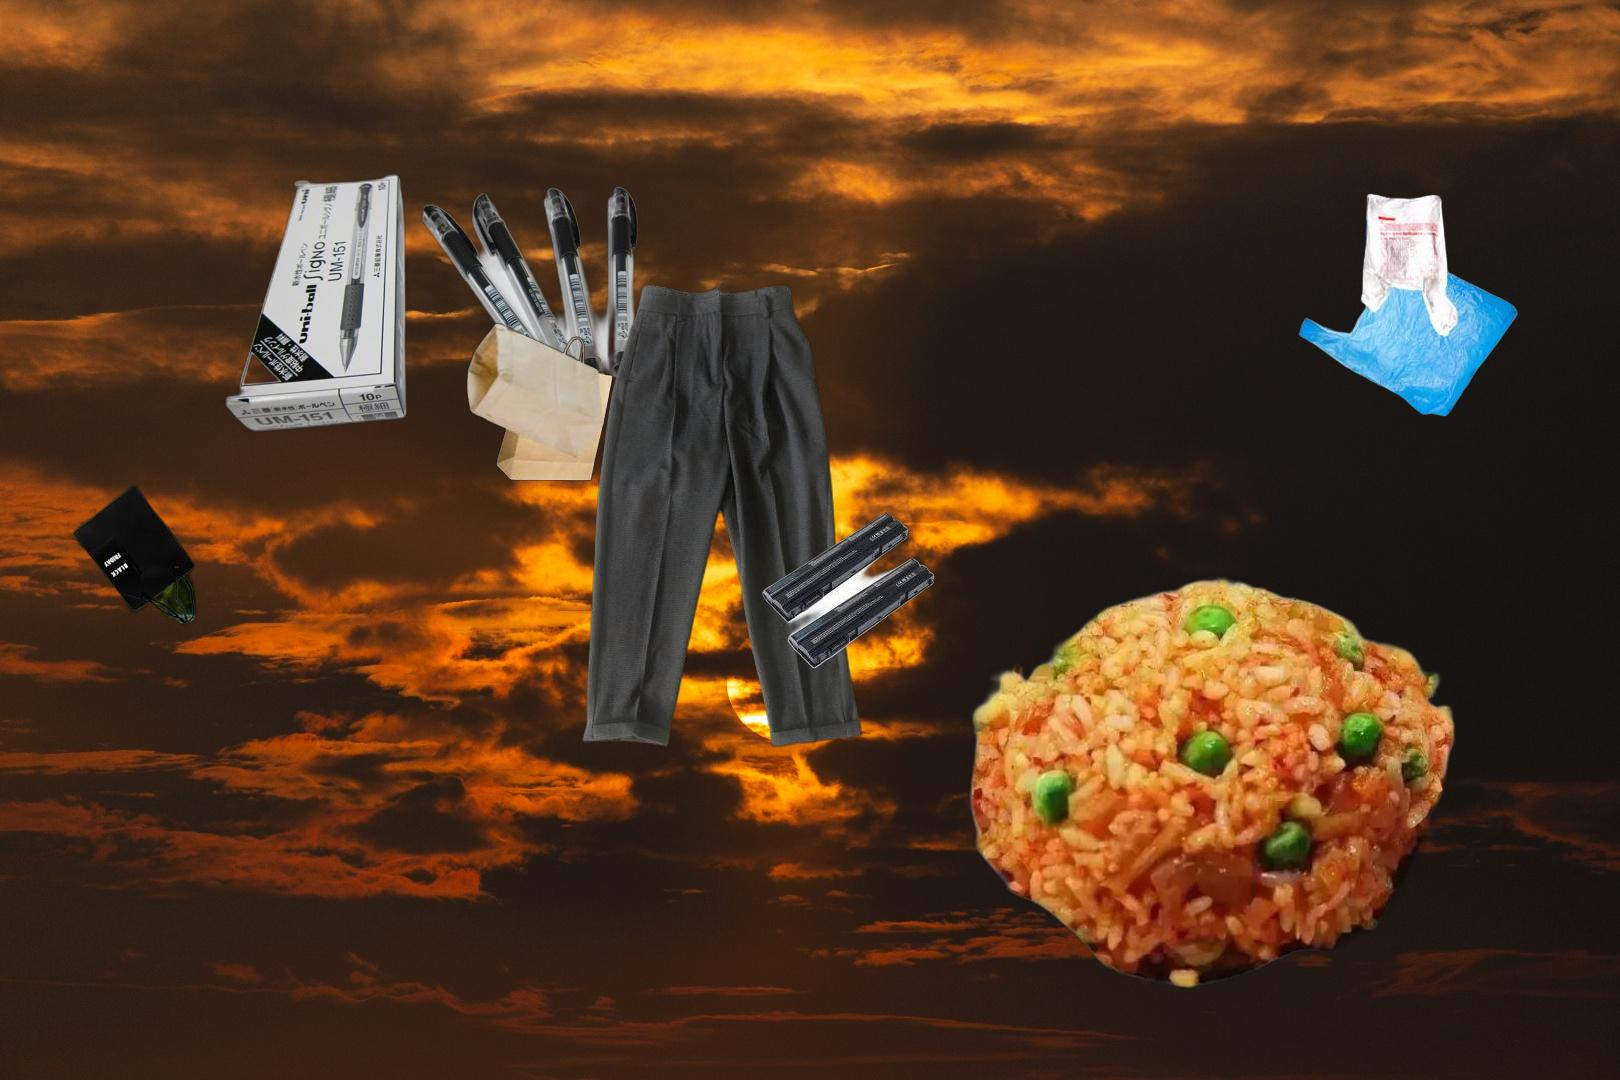battery: (759, 501, 937, 673)
biological: (965, 569, 1461, 993)
clothes: (580, 272, 865, 805)
paper-bag: (464, 319, 616, 482), (71, 482, 200, 627)
penholder: (222, 171, 641, 436)
plastic-bag: (1295, 192, 1521, 419)
